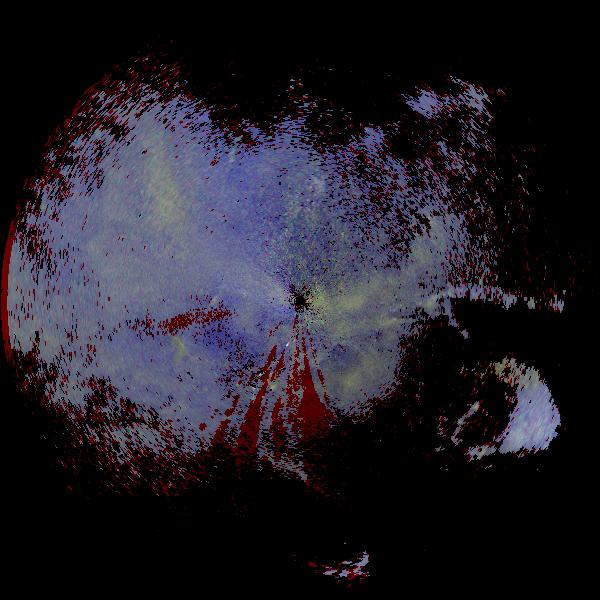roost: (129, 324, 198, 393)
